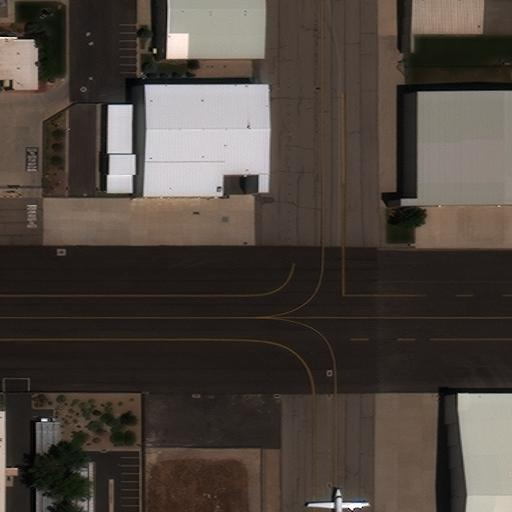Medium Civil Transport: (308, 487, 369, 511)
